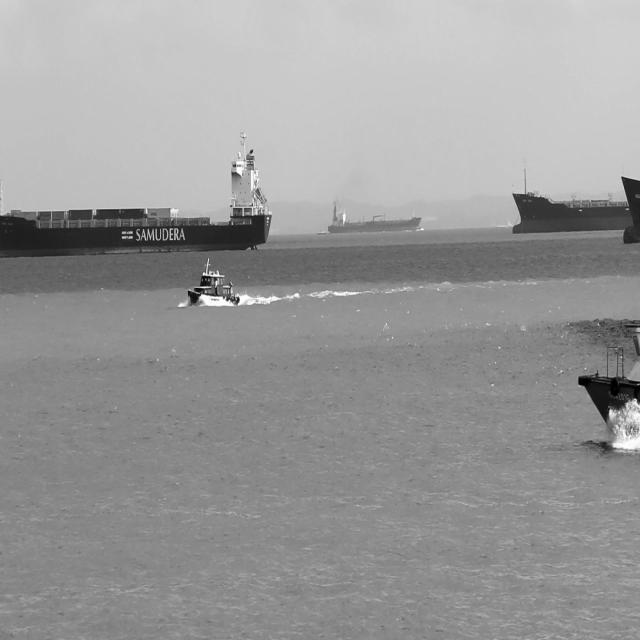ship: (0, 133, 272, 257), (512, 166, 632, 235), (576, 348, 640, 451), (327, 201, 421, 235), (187, 258, 241, 308), (620, 176, 640, 243), (315, 230, 327, 238)
